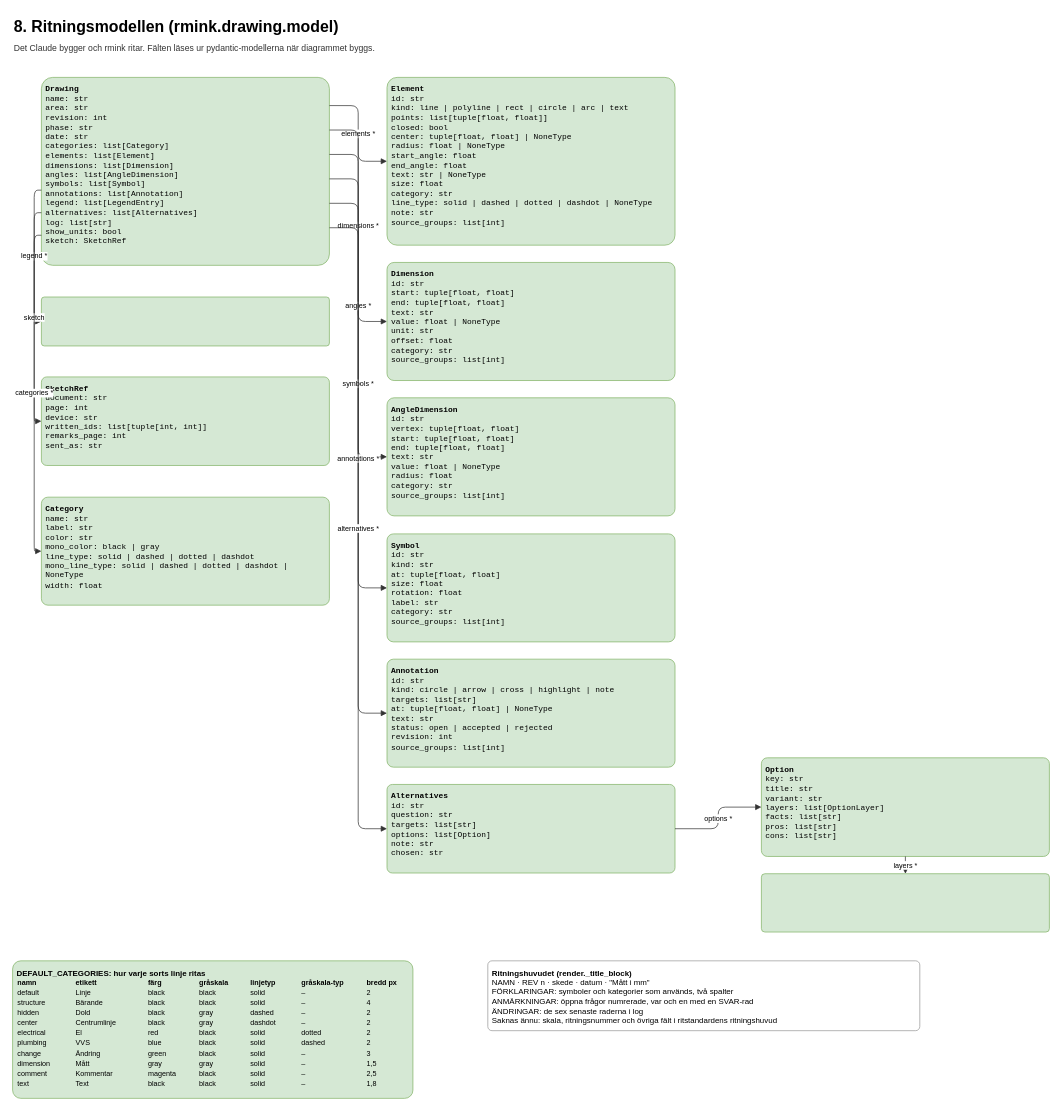
Image size: 1062x1111. Some labels were removed from this diagram. Each missing label, with the box of its shape:
LegendEntry key: str meaning: str: (41, 296, 329, 346)
OptionLayer text: str thickness_mm: float material: str: (761, 873, 1049, 932)
